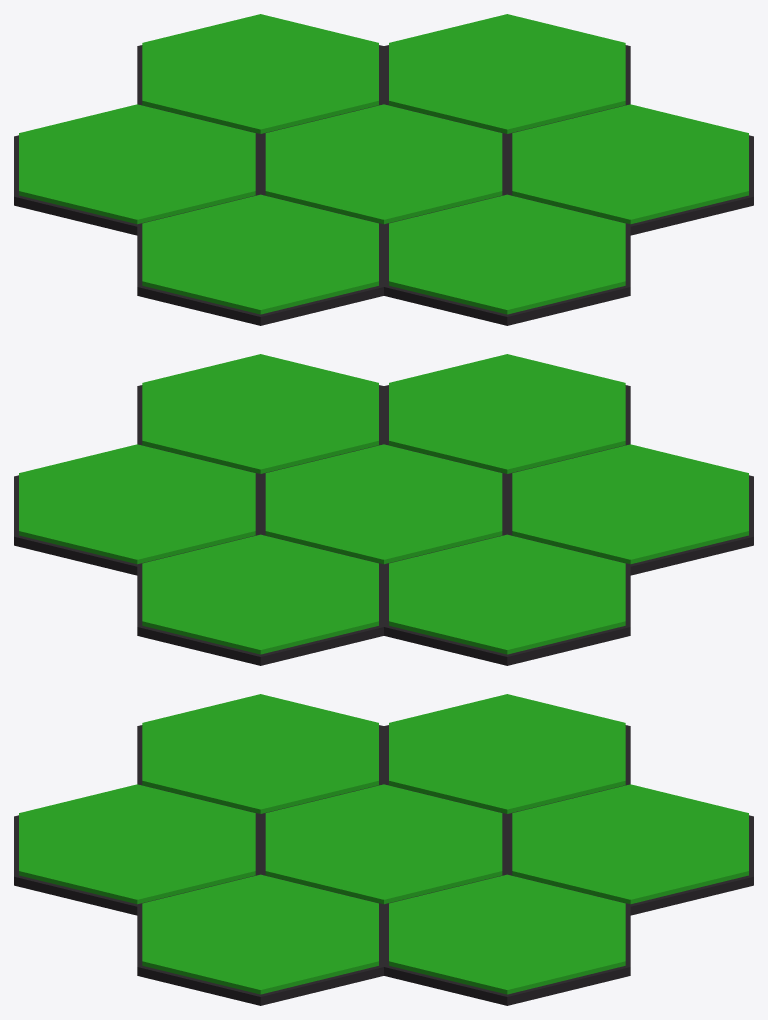
File: Home Hex.obj
The picture shows the model from 3 angles, top to bottom: view 1: azimuth 30°, elevation 25°; view 2: azimuth 150°, elevation 25°; view 3: azimuth 270°, elevation 25°; orthographic projection.
Visible parts, largest first — view 1: Body1; view 2: Body1; view 3: Body1.
Part boxes in pixels (x1,y1,x2,y2): Body1: (14,14,753,325); Body1: (14,354,753,665); Body1: (14,694,753,1005).
Size of the model in its own units: 144 by 3 by 150.
